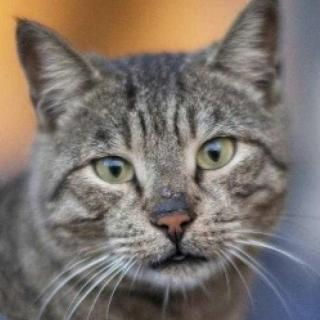cat: (12, 9, 288, 292)
nose: (141, 200, 202, 250)
